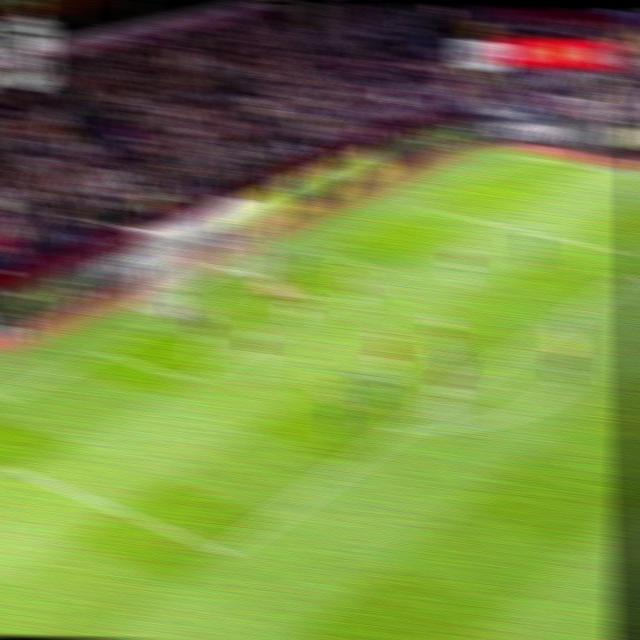bigarea_bottom_inner: (204, 534, 243, 568)
bigarea_top_outter: (401, 194, 428, 211)
bottom_arc_area_intersection: (384, 416, 416, 441)
corner: (504, 145, 536, 162)
smallarea_bottom_inner: (171, 363, 206, 393)
smallarea_bottom_outter: (89, 337, 123, 363)
smallarea_top_inner: (376, 259, 408, 281)
smallarea_top_outter: (301, 240, 333, 261)
top_arc_area_intersection: (539, 317, 569, 335)
